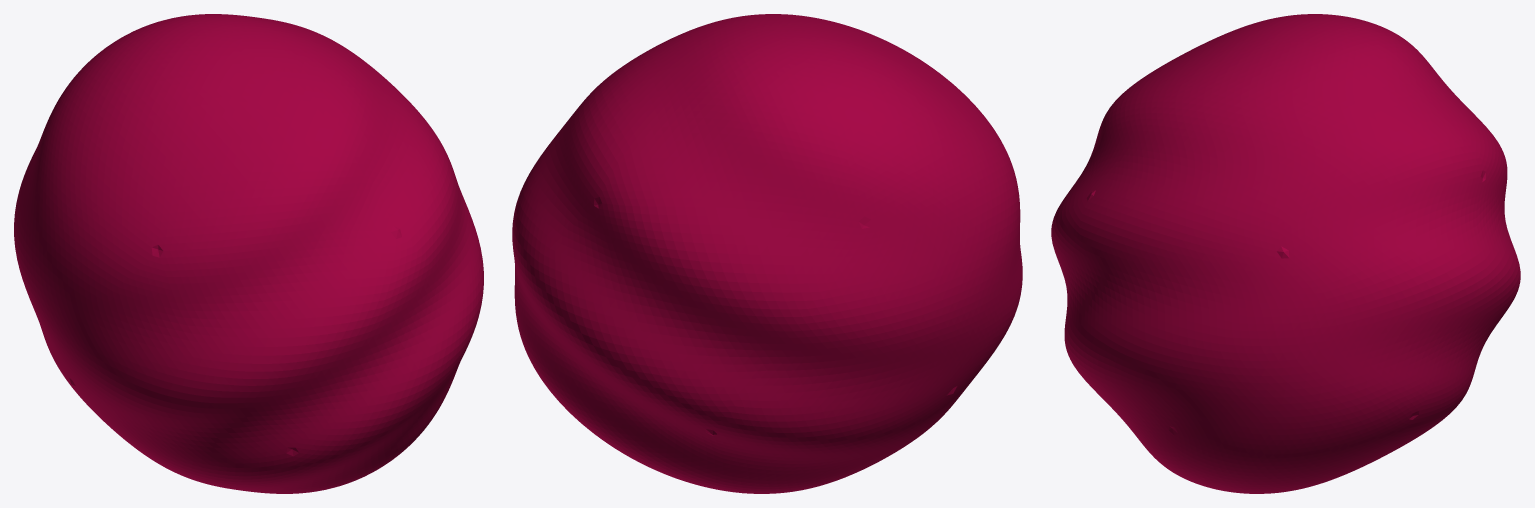
Rendered from Blobbie-01.dae.
The picture shows the model from 3 angles, left to right: view 1: azimuth 30°, elevation 25°; view 2: azimuth 150°, elevation 25°; view 3: azimuth 270°, elevation 25°; orthographic projection. The views are drawn at different scales.
Visible parts, largest first — view 1: Blobbie; view 2: Blobbie; view 3: Blobbie.
Boxes of the visible parts, bbox=[...] form: Blobbie: bbox=[14, 14, 483, 493]; Blobbie: bbox=[512, 14, 1022, 493]; Blobbie: bbox=[1051, 14, 1520, 493].
Bounding box in the file's own units: 2.02 × 2.05 × 2.02.
